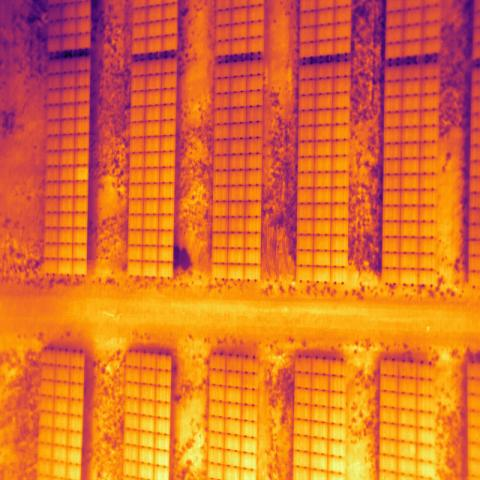fault: (75, 165, 88, 180)
